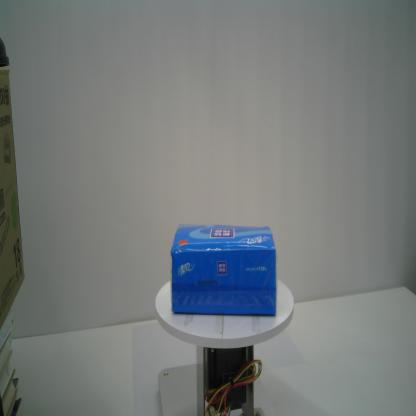Tissue: (171, 224, 276, 316)
